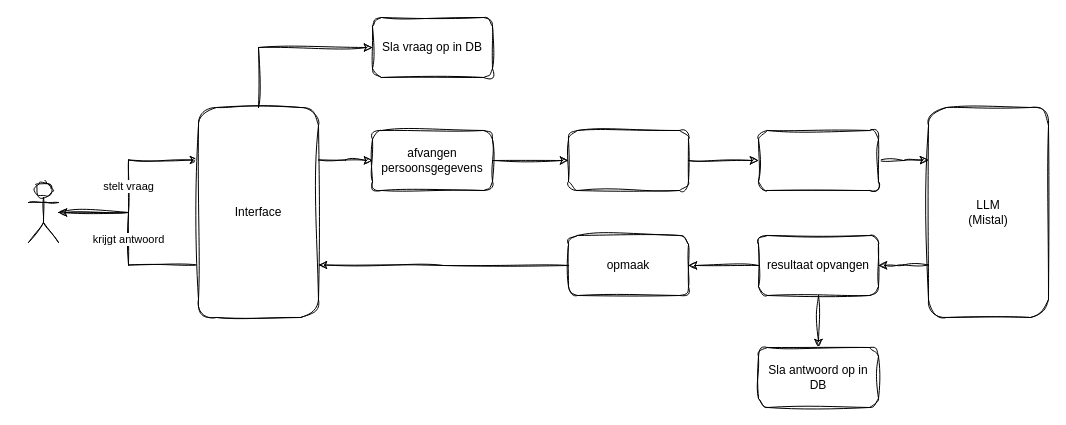
The diagram is 1066 pixels wide and 425 high, and some of its shapes have lost their labels. Each missing label, with the centre of its shape:
"Gebruiker" goes at pixel 43 212.
"prompt & interne documenten" goes at pixel 628 160.
"vraag doorzetten naar Mistral" goes at pixel 818 160.
